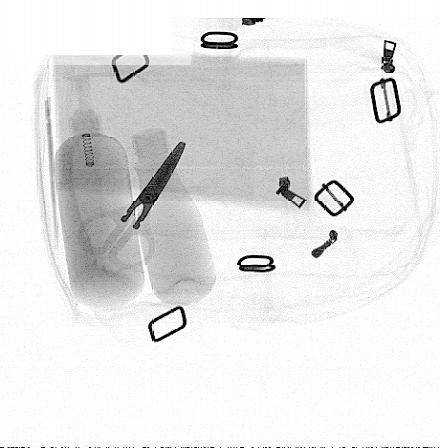Scissors: (78, 142, 185, 271)
